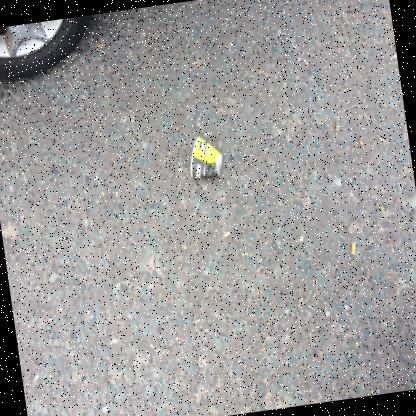Paper cup: (190, 135, 222, 176)
